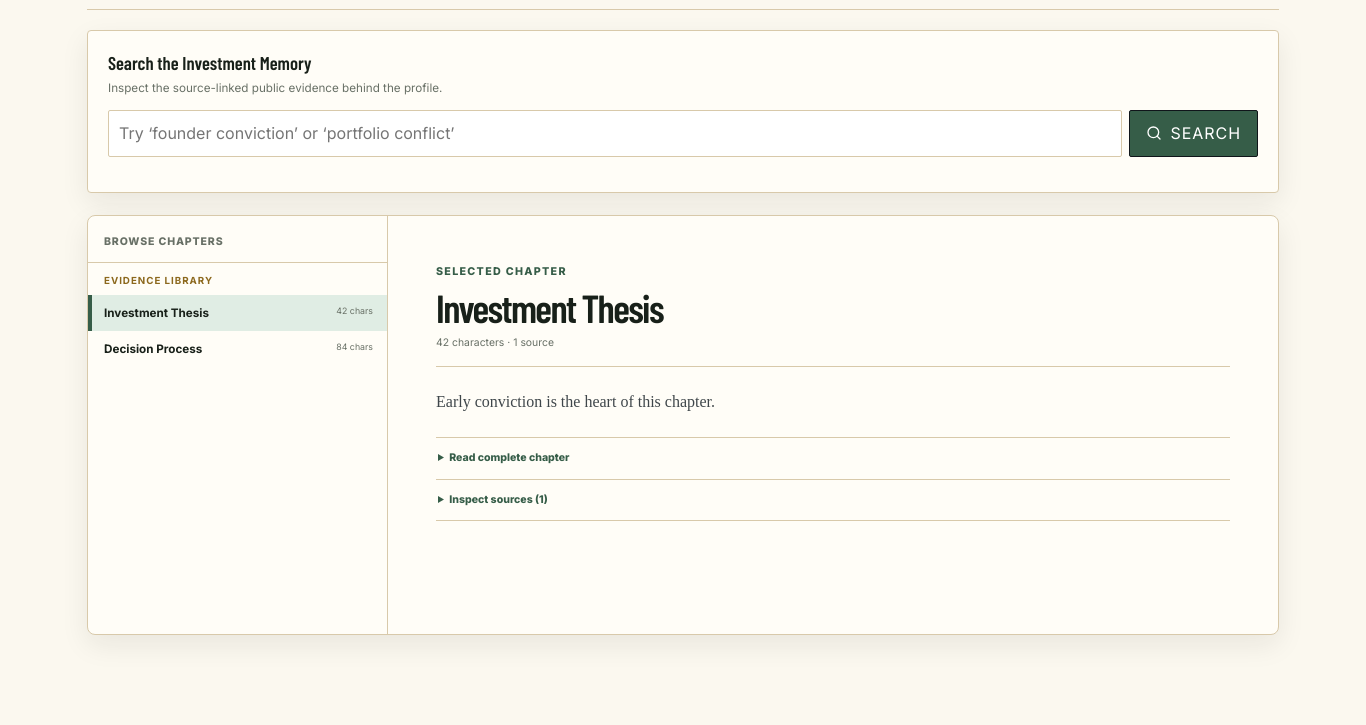
Test: ProfileExplorer › reveals the complete body and source paths when a chapter is opened
(page scrolled)
What coordinates should you click on to do the following:
click the heading "Read complete chapter"
I would click on:
 (509, 458)
Its box is [449, 451, 570, 464].
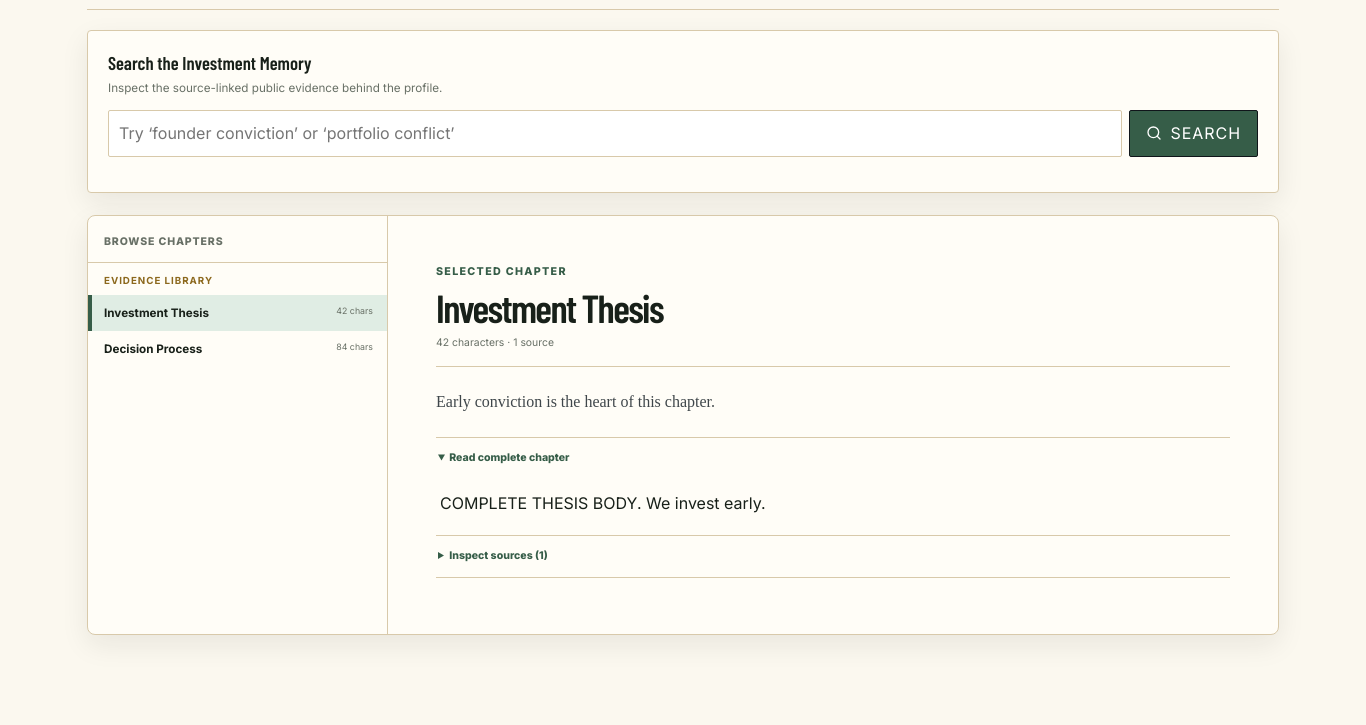
What coordinates should you click on to do the following:
click the heading "Inspect sources (1)"
I would click on:
 (498, 556)
Its box is [449, 549, 548, 562].
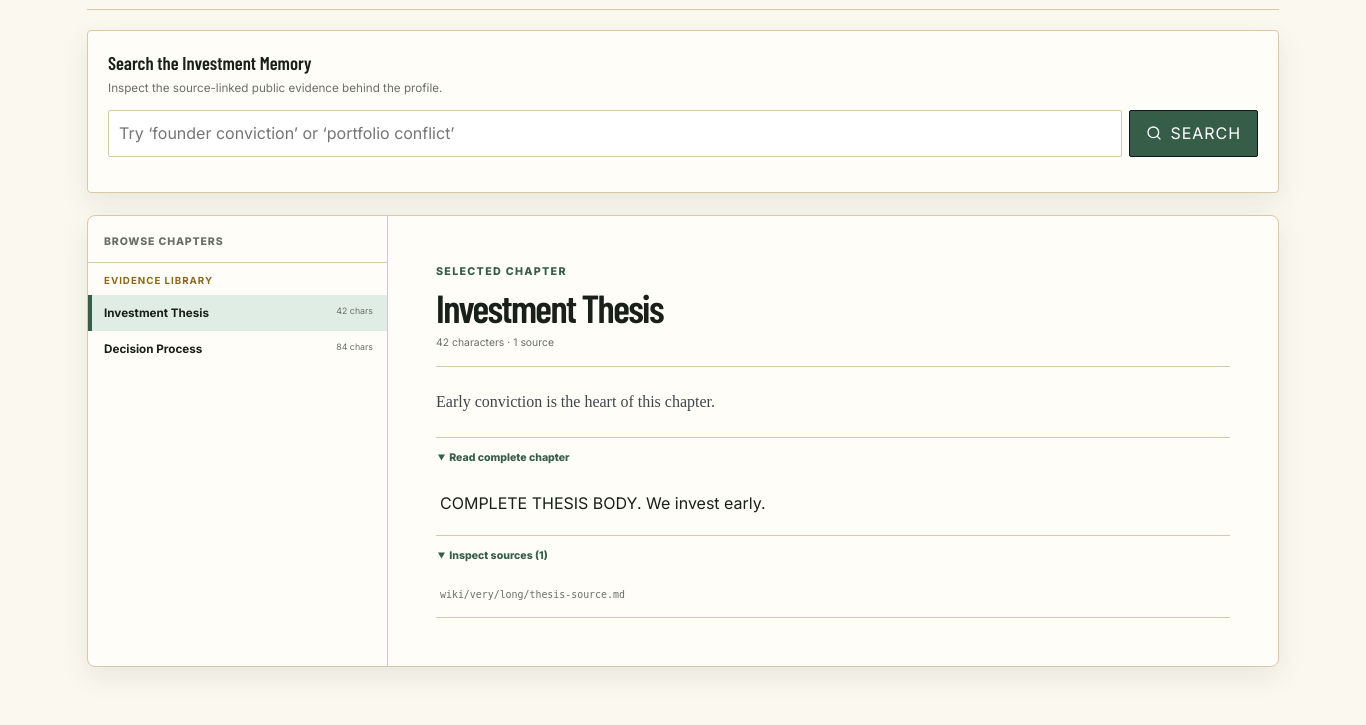
Check: the text "COMPLETE THESIS BODY. We invest early." is shown, box [440, 492, 766, 512]
Check: the text "wiki/very/long/thesis-source.md" is shown, box [440, 589, 625, 600]
